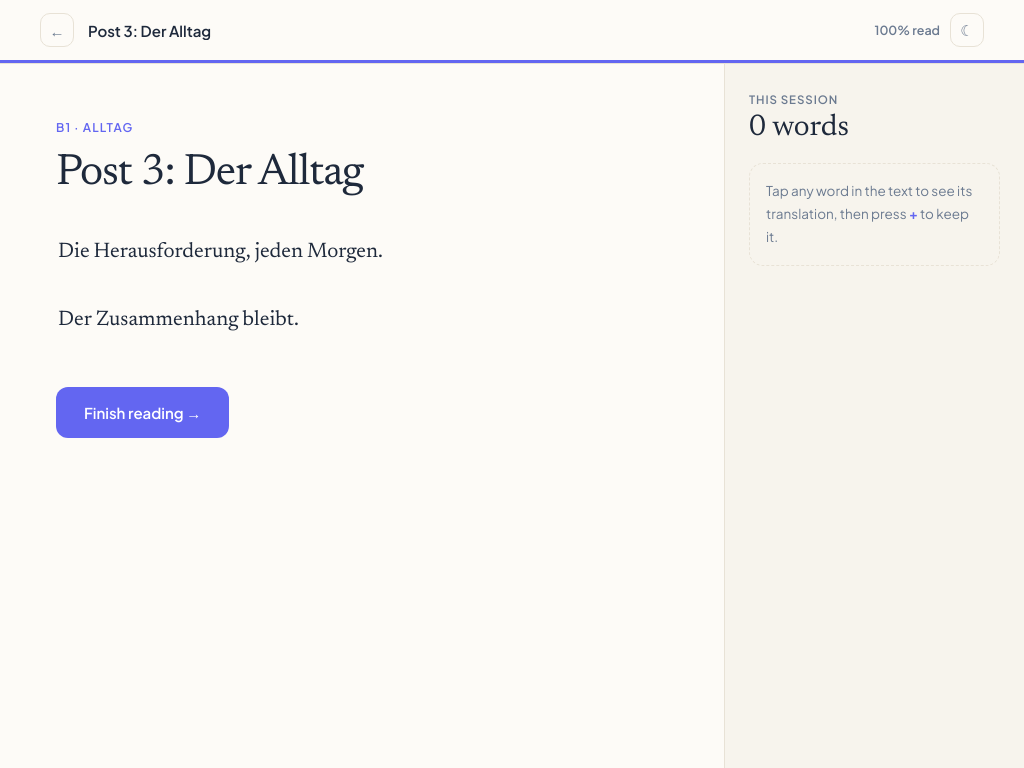
Scenario: tapping a word › shows a dash for a word the database has no translation for
Click the text "Morgen.".
click(345, 252)  # box [307,242,383,263]
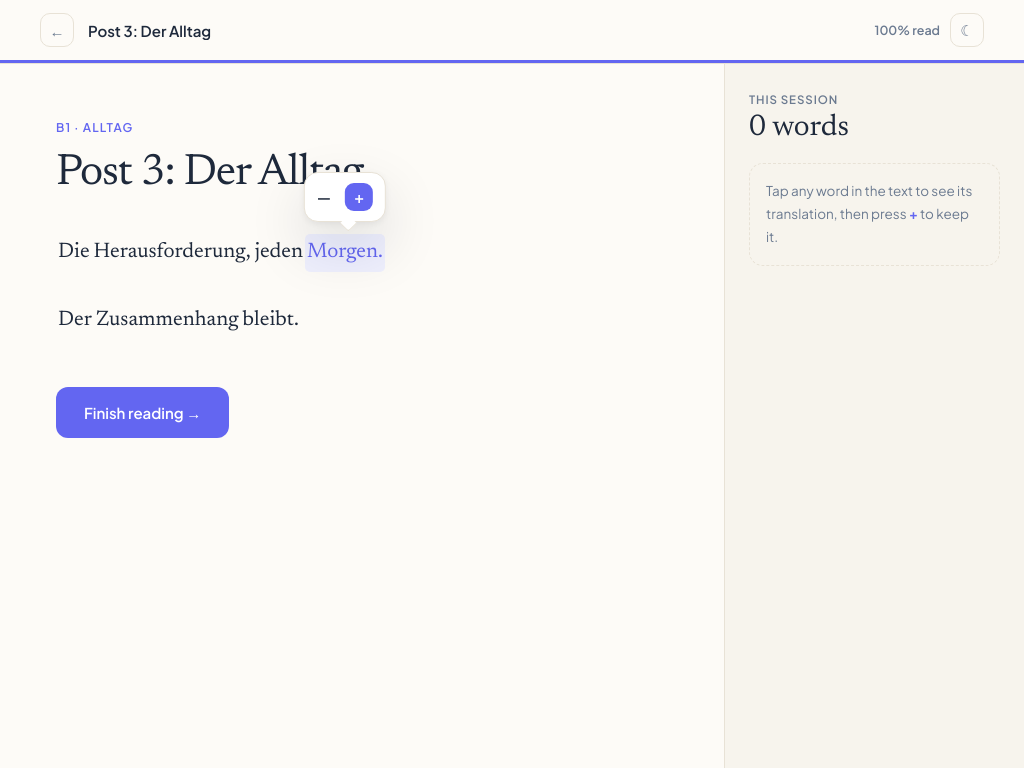
Check: the text "—" is shown, box [317,187,331,206]
